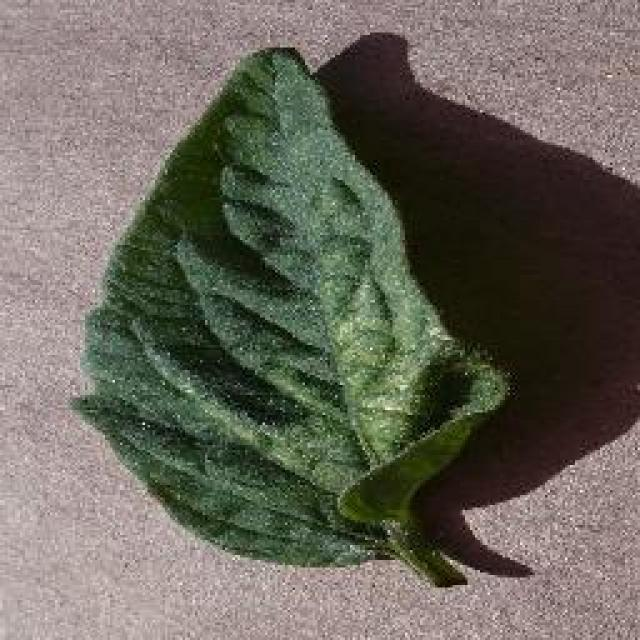Tomato spider mites leaf: (65, 47, 510, 566)
